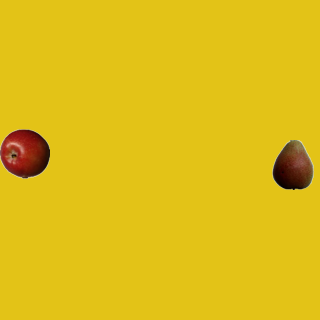Apple Braeburn: (0, 128, 49, 178)
Pear Forelle: (267, 139, 317, 189)
